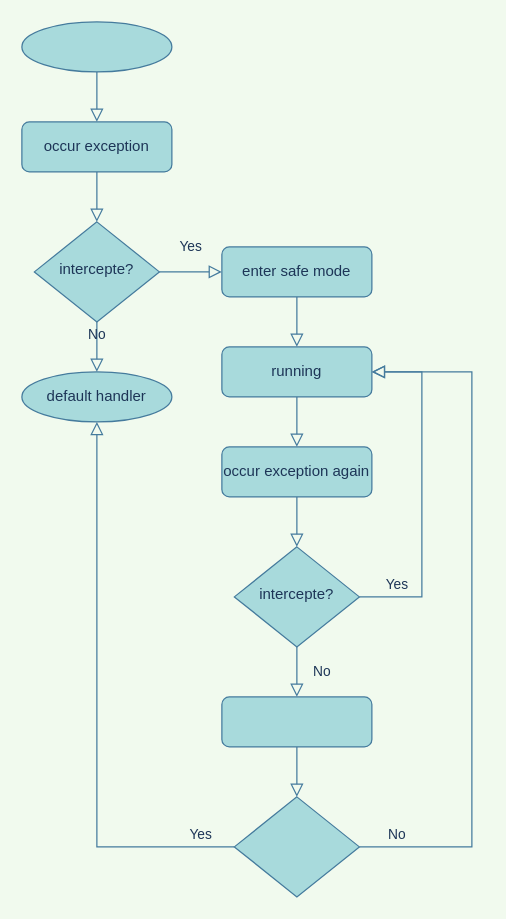
This 506x919 diagram has some shape labels left out. Here are the shapes that lost their labels. From the top down, the centre of each, then its label:
[96,46]: app running
[296,721]: record crash info and times
[296,846]: is hopeless？
